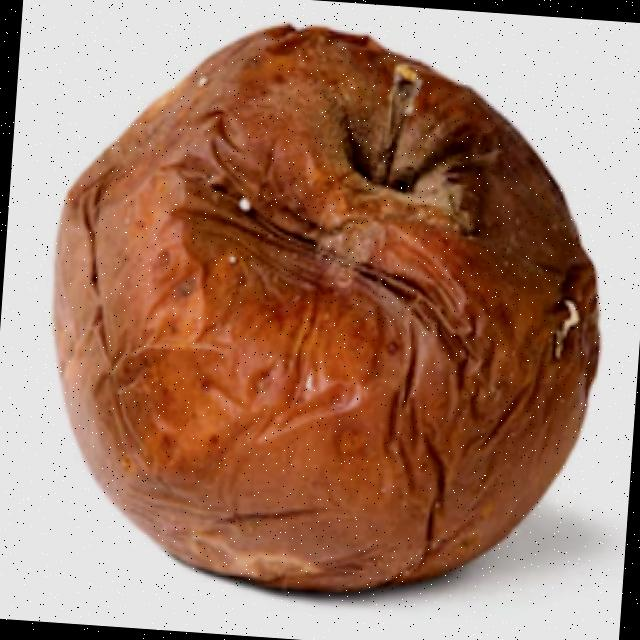Rotten: (16, 0, 626, 613)
